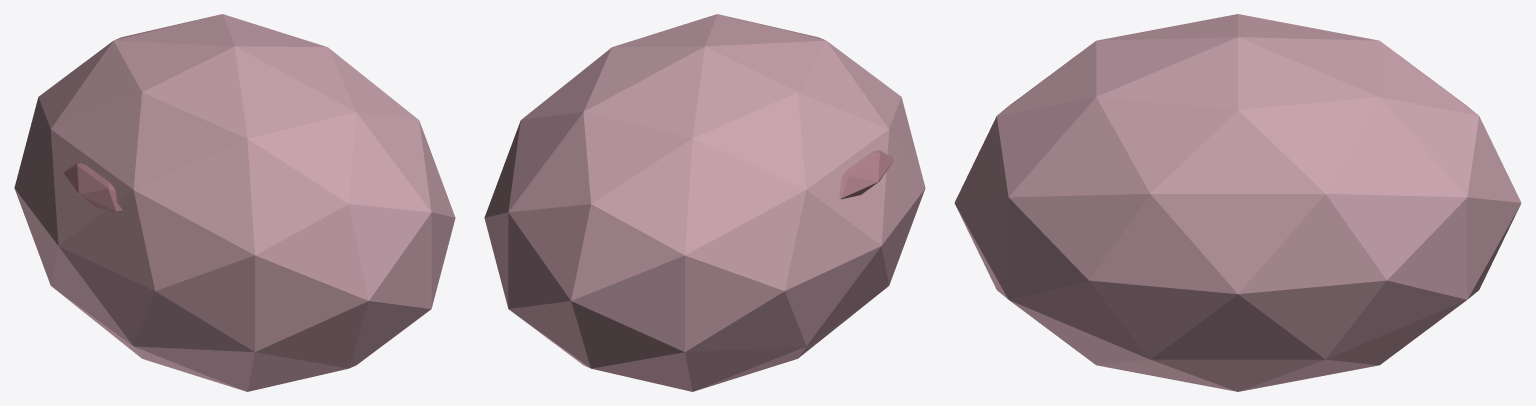
File: pregnancy-t2-low.glb
3 views of the same model, side by side, from view 1: azimuth 30°, elevation 25°; view 2: azimuth 150°, elevation 25°; view 3: azimuth 270°, elevation 25° (orthographic). The views are drawn at different scales.
Visible parts, largest first — view 1: uterus, placenta; view 2: uterus, placenta; view 3: uterus.
Boxes of the visible parts, <box> form: uterus: <box>14,14,455,391</box>; placenta: <box>63,163,122,213</box>; uterus: <box>484,14,925,391</box>; placenta: <box>839,150,893,199</box>; uterus: <box>954,14,1521,391</box>.
Bounding box in the file's own units: 2.36 × 2 × 3.1.
